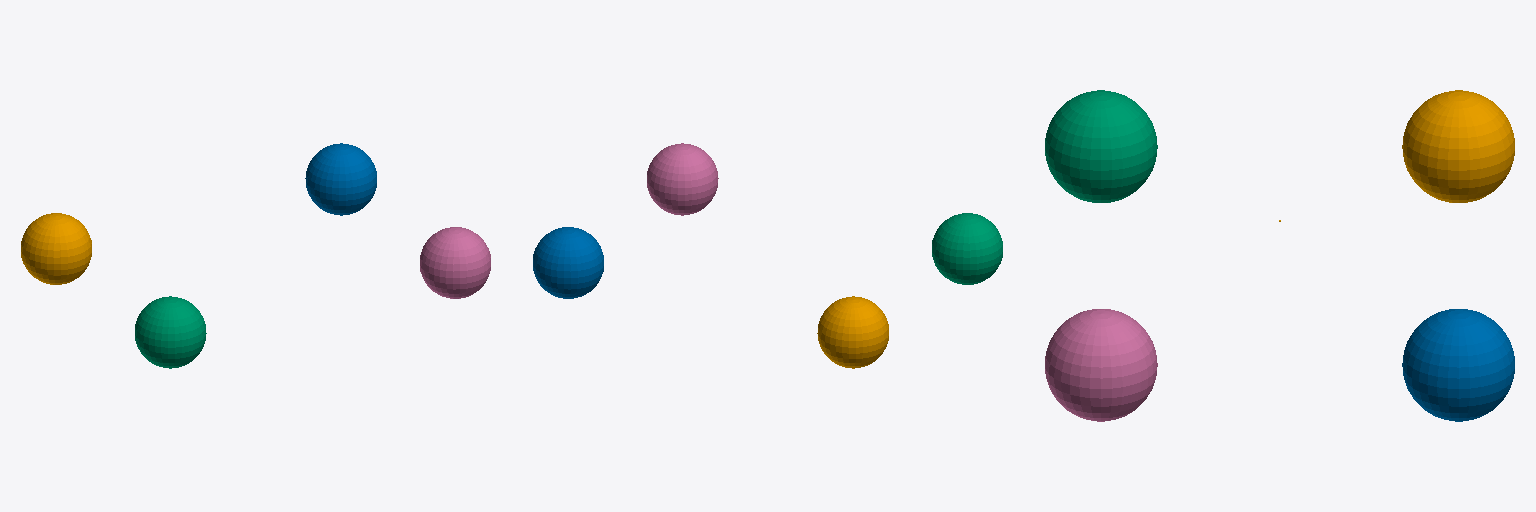
The robot description file, URDF, robot "youbot":
<?xml version="1.0" ?>
<robot name="youbot">
  <link name="youbot/base_footprint">
    <inertial>
      <mass value="0.1"/>
      <origin rpy="0 0 0" xyz="0 0 0.04"/>
      <inertia ixx="1.0" ixy="0.0" ixz="0.0" iyy="1.0" iyz="0.0" izz="1.0"/>
    </inertial>
    <visual>
      <origin rpy="0 0 0" xyz="0 0 0.09"/>
      <geometry>
        <box size="0.001 0.001 0.001"/>
      </geometry>
    </visual>
    <collision>
      <origin rpy="0 0 0" xyz="0 0 0.04"/>
      <geometry>
        <box size="0.001 0.001 0.001"/>
      </geometry>
    </collision>
  </link>
  <joint name="base_footprint_joint" type="fixed">
    <origin rpy="0 0 0" xyz="0 0 0.09"/>
    <child link="youbot/base_link"/>
    <parent link="youbot/base_footprint"/>
  </joint>
  <link name="youbot/base_link">
    <inertial>
      <mass value="22.0"/>
      <origin xyz="0 0 0"/>
      <inertia ixx="5.652232699207" ixy="-0.009719934438" ixz="1.293988226423" iyy="5.669473158652" iyz="-0.007379583694" izz="3.683196351726"/>
    </inertial>
    <visual>
      <origin rpy="0 0 0" xyz="0 0 0"/>
      <geometry>
        <mesh filename="meshes/youbot_base/base.dae"/>
      </geometry>
    </visual>
    <collision>
      <origin rpy="0 0 0" xyz="0 0 0"/>
      <geometry>
        <!--<box size="${base_size_x} ${base_size_y} ${base_size_z}" />-->
        <mesh filename="meshes/youbot_base/base_convex.stl"/>
      </geometry>
    </collision>
  </link>
  <joint name="base_laser_front_hokuyo_urg04_laser_joint" type="fixed">
    <axis xyz="0 1 0"/>
    <origin rpy="0 0 0" xyz="0.2 0 0.08"/>
    <parent link="youbot/base_link"/>
    <child link="youbot/front_laser_link"/>
  </joint>
  <link name="youbot/front_laser_link" type="laser">
    <inertial>
      <mass value="0.16"/>
      <origin rpy="0 0 0" xyz="0.1 0 -0.11"/>
      <inertia ixx="0.1" ixy="0" ixz="0" iyy="0.1" iyz="0" izz="0.1"/>
    </inertial>
    <visual>
      <origin rpy="0 0 0" xyz="0.1 0 -0.11"/>
      <geometry>
        <mesh filename="meshes/sensors/hokuyo.dae"/>
      </geometry>
    </visual>
    <collision>
      <origin rpy="0 0 0" xyz="0.1 0 -0.11"/>
      <geometry>
        <mesh filename="meshes/sensors/hokuyo_convex.stl"/>
      </geometry>
    </collision>
  </link>
  <joint name="caster_joint_fl" type="fixed">
    <origin rpy="0 0 0" xyz="0.228 0.158 -0.034"/>
    <axis xyz="0 0 1"/>
    <limit effort="30" velocity="10"/>
    <dynamics damping="1.0" friction="1.0"/>
    <safety_controller k_velocity="10.0"/>
    <parent link="youbot/base_link"/>
    <child link="youbot/caster_link_fl"/>
  </joint>
  <link name="youbot/caster_link_fl">
    <inertial>
      <mass value="0.1"/>
      <origin xyz="0 0 0"/>
      <inertia ixx="0.012411765597" ixy="-0.000711733678" ixz="0.00050272983" iyy="0.015218160428" iyz="-0.000004273467" izz="0.011763977943"/>
    </inertial>
  </link>
  <joint name="wheel_joint_fl" type="fixed">
    <axis xyz="0 1 0"/>
    <limit effort="30" velocity="10"/>
    <origin rpy="0 0 0" xyz="0.0 0.0 0.0"/>
    <parent link="youbot/caster_link_fl"/>
    <dynamics damping="1.0" friction="1.0"/>
    <safety_controller k_velocity="10.0"/>
    <child link="youbot/wheel_link_fl"/>
  </joint>
  <link name="youbot/wheel_link_fl">
    <inertial>
      <mass value="0.4"/>
      <origin xyz="0 0 0"/>
      <inertia ixx="0.012411765597" ixy="-0.000711733678" ixz="0.00050272983" iyy="0.015218160428" iyz="-0.000004273467" izz="0.011763977943"/>
    </inertial>
    <visual>
      <origin rpy="0 0 0" xyz="0 0 0"/>
      <!--<mesh filename="meshes/youbot_base/youbot_wheel.stl" />-->
      <geometry>
        <sphere radius="0.05"/>
      </geometry>
    </visual>
    <collision>
      <origin rpy="1.57079632679 0 0" xyz="0 0 0"/>
      <geometry>
        <cylinder length="0.005" radius="0.05"/>
      </geometry>
    </collision>
  </link>
  <joint name="caster_joint_fr" type="fixed">
    <origin rpy="0 0 0" xyz="0.228 -0.158 -0.034"/>
    <axis xyz="0 0 1"/>
    <limit effort="30" velocity="10"/>
    <dynamics damping="1.0" friction="1.0"/>
    <safety_controller k_velocity="10.0"/>
    <parent link="youbot/base_link"/>
    <child link="youbot/caster_link_fr"/>
  </joint>
  <link name="youbot/caster_link_fr">
    <inertial>
      <mass value="0.1"/>
      <origin xyz="0 0 0"/>
      <inertia ixx="0.012411765597" ixy="-0.000711733678" ixz="0.00050272983" iyy="0.015218160428" iyz="-0.000004273467" izz="0.011763977943"/>
    </inertial>
  </link>
  <joint name="wheel_joint_fr" type="fixed">
    <axis xyz="0 1 0"/>
    <limit effort="30" velocity="10"/>
    <dynamics damping="1.0" friction="1.0"/>
    <safety_controller k_velocity="10.0"/>
    <origin rpy="0 0 0" xyz="0.0 0.0 0.0"/>
    <parent link="youbot/caster_link_fr"/>
    <child link="youbot/wheel_link_fr"/>
  </joint>
  <link name="youbot/wheel_link_fr">
    <inertial>
      <mass value="0.4"/>
      <origin xyz="0 0 0"/>
      <inertia ixx="0.012411765597" ixy="-0.000711733678" ixz="0.00050272983" iyy="0.015218160428" iyz="-0.000004273467" izz="0.011763977943"/>
    </inertial>
    <visual>
      <origin rpy="0 0 0" xyz="0 0 0"/>
      <geometry>
        <!--<mesh filename="meshes/youbot_base/youbot_wheel.stl" />-->
        <sphere radius="0.05"/>
      </geometry>
    </visual>
    <collision>
      <origin rpy="1.57079632679 0 0" xyz="0 0 0"/>
      <geometry>
        <cylinder length="0.005" radius="0.05"/>
      </geometry>
    </collision>
  </link>
  <joint name="caster_joint_bl" type="fixed">
    <origin rpy="0 0 0" xyz="-0.228 0.158 -0.034"/>
    <axis xyz="0 0 1"/>
    <limit effort="30" velocity="10"/>
    <dynamics damping="1.0" friction="1.0"/>
    <safety_controller k_velocity="10.0"/>
    <parent link="youbot/base_link"/>
    <child link="youbot/caster_link_bl"/>
  </joint>
  <link name="youbot/caster_link_bl">
    <inertial>
      <mass value="0.1"/>
      <origin xyz="0 0 0"/>
      <inertia ixx="0.012411765597" ixy="-0.000711733678" ixz="0.00050272983" iyy="0.015218160428" iyz="-0.000004273467" izz="0.011763977943"/>
    </inertial>
  </link>
  <joint name="wheel_joint_bl" type="fixed">
    <axis xyz="0 1 0"/>
    <limit effort="10" velocity="10"/>
    <limit effort="30" velocity="10"/>
    <dynamics damping="1.0" friction="1.0"/>
    <safety_controller k_velocity="10.0"/>
    <origin rpy="0 0 0" xyz="0.0 0.0 0.0"/>
    <parent link="youbot/caster_link_bl"/>
    <child link="youbot/wheel_link_bl"/>
  </joint>
  <link name="youbot/wheel_link_bl">
    <inertial>
      <mass value="0.4"/>
      <origin xyz="0 0 0"/>
      <inertia ixx="0.012411765597" ixy="-0.000711733678" ixz="0.00050272983" iyy="0.015218160428" iyz="-0.000004273467" izz="0.011763977943"/>
    </inertial>
    <visual>
      <origin rpy="0 0 0" xyz="0 0 0"/>
      <geometry>
        <!--<mesh filename="meshes/youbot_base/youbot_wheel.stl" />-->
        <sphere radius="0.05"/>
      </geometry>
    </visual>
    <collision>
      <origin rpy="1.57079632679 0 0" xyz="0 0 0"/>
      <geometry>
        <cylinder length="0.005" radius="0.05"/>
      </geometry>
    </collision>
  </link>
  <joint name="caster_joint_br" type="fixed">
    <origin rpy="0 0 0" xyz="-0.228 -0.158 -0.034"/>
    <axis xyz="0 0 1"/>
    <limit effort="30" velocity="10"/>
    <dynamics damping="1.0" friction="1.0"/>
    <safety_controller k_velocity="10.0"/>
    <parent link="youbot/base_link"/>
    <child link="youbot/caster_link_br"/>
  </joint>
  <link name="youbot/caster_link_br">
    <inertial>
      <mass value="0.1"/>
      <origin xyz="0 0 0"/>
      <inertia ixx="0.012411765597" ixy="-0.000711733678" ixz="0.00050272983" iyy="0.015218160428" iyz="-0.000004273467" izz="0.011763977943"/>
    </inertial>
  </link>
  <joint name="wheel_joint_br" type="fixed">
    <axis xyz="0 1 0"/>
    <limit effort="30" velocity="10"/>
    <dynamics damping="1.0" friction="1.0"/>
    <safety_controller k_velocity="10.0"/>
    <origin rpy="0 0 0" xyz="0.0 0.0 0.0"/>
    <parent link="youbot/caster_link_br"/>
    <child link="youbot/wheel_link_br"/>
  </joint>
  <link name="youbot/wheel_link_br">
    <inertial>
      <mass value="0.4"/>
      <origin xyz="0 0 0"/>
      <inertia ixx="0.012411765597" ixy="-0.000711733678" ixz="0.00050272983" iyy="0.015218160428" iyz="-0.000004273467" izz="0.011763977943"/>
    </inertial>
    <visual>
      <origin rpy="0 0 0" xyz="0 0 0"/>
      <geometry>
        <!--<mesh filename="meshes/youbot_base/youbot_wheel.stl" />-->
        <sphere radius="0.05"/>
      </geometry>
    </visual>
    <collision>
      <origin rpy="1.57079632679 0 0" xyz="0 0 0"/>
      <geometry>
        <cylinder length="0.005" radius="0.05"/>
      </geometry>
    </collision>
  </link>
  <joint name="plate_joint" type="fixed">
    <origin rpy="0 0 0" xyz="-0.159 0 0.046"/>
    <parent link="youbot/base_link"/>
    <child link="youbot/plate_link"/>
  </joint>
  <link name="youbot/plate_link">
    <inertial>
      <origin rpy="0 0 0" xyz="0 0 0"/>
      <mass value="1"/>
      <inertia ixx="0.01" ixy="0" ixz="0" iyy="0.01" iyz="0" izz="0.01"/>
    </inertial>
    <visual>
      <origin rpy="0 0 0" xyz="0 0 0"/>
      <geometry>
        <mesh filename="meshes/youbot_plate/plate.dae"/>
      </geometry>
    </visual>
    <collision>
      <origin rpy="0 0 0" xyz="0 0 0"/>
      <geometry>
        <mesh filename="meshes/youbot_plate/plate_convex.stl"/>
      </geometry>
    </collision>
  </link>
  <joint name="arm_joint_0" type="fixed">
    <origin rpy="0 0 0" xyz="0.143 0 0.046"/>
    <parent link="youbot/base_link"/>
    <child link="youbot/arm_link_0"/>
  </joint>
  <link name="youbot/arm_link_0">
    <inertial>
      <!--<origin xyz="0.023 0 0.006" rpy="0 0 0"/>-->
      <origin rpy="0 0 0" xyz="0 0 0"/>
      <mass value="0.845"/>
      <inertia ixx="0.01" ixy="0" ixz="0" iyy="0.01" iyz="0" izz="0.01"/>
    </inertial>
    <visual>
      <origin rpy="0 0 0" xyz="0 0 0"/>
      <geometry>
        <mesh filename="meshes/youbot_arm/arm0.dae"/>
      </geometry>

    </visual>
    <collision>
      <!--<origin xyz="0.023 0 0.006" rpy="0 0 0"/>-->
      <origin rpy="0 0 0" xyz="0 0 0"/>
      <geometry>
        <mesh filename="meshes/youbot_arm/arm0_convex.stl"/>
        <!--<cylinder length="0.078" radius="0.093"/>-->
      </geometry>
    </collision>
  </link>
  <joint name="arm_joint_1" type="revolute">
    <origin rpy="0 0 0" xyz="0.024 0 0.096"/>
    <parent link="youbot/arm_link_0"/>
    <child link="youbot/arm_link_1"/>
    <axis xyz="0 0 1"/>
    <!--<calibration rising="${arm_1_ref}" falling="${arm_1_ref}"/>-->
    <dynamics damping="1.0" friction="1.0"/>
    <limit effort="10" lower="0" upper="5.89921287174" velocity="1.57079632679"/>
    <safety_controller k_position="20" k_velocity="25" soft_lower_limit="0.001" soft_upper_limit="5.89821287174"/>
  </joint>
  <link name="youbot/arm_link_1">
    <inertial>
      <!--<origin xyz="0 0 -0.003" rpy="0 0 0" />-->
      <origin rpy="0 0 0" xyz="0 0 0"/>
      <mass value="2.412"/>
      <inertia ixx="0.01" ixy="0" ixz="0" iyy="0.01" iyz="0" izz="0.01"/>
    </inertial>
    <visual>
      <origin rpy="0 0 0" xyz="0 0 0"/>
      <geometry>
        <mesh filename="meshes/youbot_arm/arm1.dae"/>
      </geometry>
    </visual>
    <collision>
      <!--<origin xyz="0 0 -0.003" rpy="0 0 0" />-->
      <origin rpy="0 0 0" xyz="0 0 0"/>
      <geometry>
        <mesh filename="meshes/youbot_arm/arm1_convex.stl"/>
        <!--<cylinder length="0.102" radius="0.080"/>-->
      </geometry>
    </collision>
  </link>
  <joint name="arm_joint_2" type="revolute">
    <origin rpy="0 0 0" xyz="0.033 0 0.019"/>
    <parent link="youbot/arm_link_1"/>
    <child link="youbot/arm_link_2"/>
    <axis xyz="0 -1 0"/>
    <!--<calibration rising="${arm_2_ref}" falling="${arm_2_ref}"/>-->
    <dynamics damping="1.0" friction="1.0"/>
    <limit effort="10" lower="0" upper="2.70526034059" velocity="1.57079632679"/>
    <safety_controller k_position="20" k_velocity="25" soft_lower_limit="0.001" soft_upper_limit="2.70426034059"/>
  </joint>
  <link name="youbot/arm_link_2">
    <inertial>
      <!--<origin xyz="0.001 -0.041 0.074" rpy="0 0 0" />-->
      <origin rpy="0 0 0" xyz="0 -0.032 0.078"/>
      <mass value="1.155"/>
      <inertia ixx="0.01" ixy="0" ixz="0" iyy="0.01" iyz="0" izz="0.01"/>
    </inertial>
    <visual>
      <origin rpy="0 0 0" xyz="0 -0.032 0.078"/>
      <geometry>
        <mesh filename="meshes/youbot_arm/arm2.dae"/>
      </geometry>

    </visual>
    <collision>
      <!--<origin xyz="0.001 -0.041 0.074" rpy="0 0 0" />-->
      <origin rpy="0 0 0" xyz="0 -0.032 0.078"/>
      <geometry>
        <mesh filename="meshes/youbot_arm/arm2_convex.stl"/>
        <!--<box size="0.074 0.082 0.222"/>-->
      </geometry>
    </collision>
  </link>
  <joint name="arm_joint_3" type="revolute">
    <origin rpy="0 0 0" xyz="0.000 0.000 0.155"/>
    <parent link="youbot/arm_link_2"/>
    <child link="youbot/arm_link_3"/>
    <axis xyz="0 1 0"/>
    <!--<calibration rising="${arm_3_ref}" falling="${arm_3_ref}"/>-->
    <dynamics damping="1.0" friction="1.0"/>
    <limit effort="10" lower="-5.18362787842" upper="0" velocity="1.57079632679"/>
    <safety_controller k_position="20" k_velocity="25" soft_lower_limit="-5.18262787842" soft_upper_limit="0.001"/>
  </joint>
  <link name="youbot/arm_link_3">
    <inertial>
      <!--<origin xyz="0.000 0.025 0.067" rpy="0 0 0" />-->
      <origin rpy="0 0 0" xyz="0.000 0.028 0.079"/>
      <mass value="0.934"/>
      <inertia ixx="0.01" ixy="0" ixz="0" iyy="0.01" iyz="0" izz="0.01"/>
    </inertial>
    <visual>
      <origin rpy="0 0 0" xyz="0.000 0.028 0.079"/>
      <geometry>
        <mesh filename="meshes/youbot_arm/arm3.dae"/>
      </geometry>

    </visual>
    <collision>
      <!--<origin xyz="0.000 0.025 0.067" rpy="0 0 0" />-->
      <origin rpy="0 0 0" xyz="0.000 0.028 0.079"/>
      <geometry>
        <mesh filename="meshes/youbot_arm/arm3_convex.stl"/>
        <!--<box size="0.064 0.054 0.192"/>-->
      </geometry>
    </collision>
  </link>
  <joint name="arm_joint_4" type="revolute">
    <origin rpy="0 0 0" xyz="0.000 0.000 0.135"/>
    <parent link="youbot/arm_link_3"/>
    <child link="youbot/arm_link_4"/>
    <axis xyz="0 -1 0"/>
    <!--<calibration rising="${arm_4_ref}" falling="${arm_4_ref}"/>-->
    <dynamics damping="1.0" friction="1.0"/>
    <limit effort="10" lower="0" upper="3.57792496659" velocity="1.57079632679"/>
    <safety_controller k_position="20" k_velocity="25" soft_lower_limit="0" soft_upper_limit="3.57692496659"/>
  </joint>
  <link name="youbot/arm_link_4">
    <inertial>
      <!--<origin xyz="0 0 0.026" rpy="0 0 0"/>-->
      <origin rpy="0 0 0" xyz="0 -0.010 0.029"/>
      <mass value="0.877"/>
      <inertia ixx="0.01" ixy="0" ixz="0" iyy="0.01" iyz="0" izz="0.01"/>
    </inertial>
    <visual>
      <origin rpy="0 0 0" xyz="0 -0.010 0.029"/>
      <geometry>
        <mesh filename="meshes/youbot_arm/arm4.dae"/>
      </geometry>

    </visual>
    <collision>
      <!--<origin xyz="0 0 0.026" rpy="0 0 0" />-->
      <origin rpy="0 0 0" xyz="0 -0.010 0.029"/>
      <geometry>
        <mesh filename="meshes/youbot_arm/arm4_convex.stl"/>
        <!--<box size="0.058 0.100 0.118"/>-->
      </geometry>
    </collision>
  </link>
  <joint name="arm_joint_5" type="revolute">
    <origin rpy="0 0 0" xyz="-0.002 0 0.130"/>
    <parent link="youbot/arm_link_4"/>
    <child link="youbot/arm_link_5"/>
    <axis xyz="0 0 1"/>
    <!--<calibration rising="${arm_5_ref}" falling="${arm_5_ref}"/>-->
    <dynamics damping="1.0" friction="1.0"/>
    <limit effort="10" lower="0" upper="5.84685299418" velocity="1.57079632679"/>
    <safety_controller k_position="20" k_velocity="25" soft_lower_limit="0" soft_upper_limit="5.84585299418"/>
  </joint>
  <link name="youbot/arm_link_5">
    <inertial>
      <origin rpy="0 0 0" xyz="0.003 0 -0.034"/>
      <mass value="0.251"/>
      <inertia ixx="0.01" ixy="0" ixz="0" iyy="0.01" iyz="0" izz="0.01"/>
    </inertial>
    <visual>
      <origin rpy="0 0 0" xyz="0.003 0 -0.034"/>
      <geometry>
        <mesh filename="meshes/youbot_arm/arm5.dae"/>
      </geometry>

    </visual>
    <collision>
      <origin rpy="0 0 0" xyz="0.003 0 -0.034"/>
      <geometry>
        <mesh filename="meshes/youbot_arm/arm5_convex.stl"/>
        <!--<box size="0.054 0.096 0.030"/>-->
      </geometry>
    </collision>
  </link>
  <joint name="gripper_palm_joint" type="fixed">
    <origin rpy="0 0 0" xyz="0 0 0"/>
    <parent link="youbot/arm_link_5"/>
    <child link="youbot/gripper_palm_link"/>
  </joint>
  <link name="youbot/gripper_palm_link">
    <inertial>
      <origin rpy="0 0 0" xyz="0 0 0"/>
      <mass value="0.75"/>
      <inertia ixx="0.01" ixy="0" ixz="0" iyy="0.01" iyz="0" izz="0.01"/>
    </inertial>
    <visual>
      <origin rpy="0 0 0" xyz="0 0 0"/>
      <geometry>
        <mesh filename="meshes/youbot_gripper/palm.stl"/>
      </geometry>

    </visual>
    <collision>
      <origin rpy="0 0 0" xyz="0 0 0"/>
      <geometry>
        <!--<box size="0.050 0.094 0.054"/>-->
        <mesh filename="meshes/youbot_gripper/palm_convex.stl"/>
      </geometry>
    </collision>
  </link>
  <joint name="gripper_finger_joint_l" type="fixed">
    <origin rpy="0 0 3.14159265359" xyz="0.004 0.008 0.046"/>
    <parent link="youbot/gripper_palm_link"/>
    <child link="youbot/gripper_finger_link_l"/>
    <axis xyz="0 -1 0"/>
    <dynamics damping="1.0" friction="1.0"/>
    <limit effort="1" lower="0" upper="0.0115" velocity="0.1"/>
    <safety_controller k_position="20" k_velocity="25" soft_lower_limit="0.001" soft_upper_limit="0.011"/>
  </joint>
  <link name="youbot/gripper_finger_link_l">
    <inertial>
      <origin rpy="0 0 0" xyz="0 -0.001 0"/>
      <mass value="0.01"/>
      <inertia ixx="0.01" ixy="0" ixz="0" iyy="0.01" iyz="0" izz="0.01"/>
    </inertial>
    <visual>
      <origin rpy="0 0 0" xyz="0 0 0"/>
      <geometry>
        <mesh filename="meshes/youbot_gripper/finger.stl"/>
      </geometry>

    </visual>
    <collision>
      <origin rpy="0 0 0" xyz="0 0 0"/>
      <geometry>
        <!--<box size="0.014 0.020 0.046"/>-->
        <mesh filename="meshes/youbot_gripper/finger_convex.stl"/>
      </geometry>
    </collision>
  </link>
  <joint name="gripper_finger_joint_r" type="fixed">
    <origin rpy="0 0 0" xyz="0.004 -0.008 0.046"/>
    <parent link="youbot/gripper_palm_link"/>
    <child link="youbot/gripper_finger_link_r"/>
    <axis xyz="0 -1 0"/>
    <dynamics damping="1.0" friction="1.0"/>
    <limit effort="1" lower="0" upper="0.0115" velocity="0.1"/>
    <safety_controller k_position="20" k_velocity="25" soft_lower_limit="0.001" soft_upper_limit="0.011"/>
  </joint>
  <link name="youbot/gripper_finger_link_r">
    <inertial>
      <origin rpy="0 0 0" xyz="0.000 -0.001 0"/>
      <mass value="0.01"/>
      <inertia ixx="0.01" ixy="0" ixz="0" iyy="0.01" iyz="0" izz="0.01"/>
    </inertial>
    <visual>
      <origin rpy="0 0 0" xyz="0 0 0"/>
      <geometry>
        <mesh filename="meshes/youbot_gripper/finger.stl"/>
      </geometry>

    </visual>
    <collision>
      <origin rpy="0 0 0" xyz="0.000 0 0"/>
      <geometry>
        <!--<box size="0.014 0.020 0.046"/>-->
        <mesh filename="meshes/youbot_gripper/finger_convex.stl"/>
      </geometry>
    </collision>
  </link>
</robot>

--- Facts derived from the render (not from the file) ---
3 views of the same robot in one strip: view 1: azimuth 30°, elevation 25°; view 2: azimuth 150°, elevation 25°; view 3: azimuth 270°, elevation 25° (orthographic).
Model youbot with 21 links and 20 joints (5 revolute, 15 fixed), rooted at youbot/base_footprint, posed every joint at zero.
Links seen in each view (by area): view 1: youbot/wheel_link_fr, youbot/wheel_link_bl, youbot/wheel_link_fl, youbot/wheel_link_br; view 2: youbot/wheel_link_fl, youbot/wheel_link_br, youbot/wheel_link_fr, youbot/wheel_link_bl; view 3: youbot/wheel_link_fl, youbot/wheel_link_fr, youbot/wheel_link_bl, youbot/wheel_link_br.
Link boxes in pixels (<box>): youbot/wheel_link_fr: <box>420,227,490,298</box>; youbot/wheel_link_bl: <box>21,213,91,284</box>; youbot/wheel_link_fl: <box>305,143,376,215</box>; youbot/wheel_link_br: <box>135,296,206,368</box>; youbot/wheel_link_fl: <box>533,227,603,298</box>; youbot/wheel_link_br: <box>932,213,1002,284</box>; youbot/wheel_link_fr: <box>647,143,718,215</box>; youbot/wheel_link_bl: <box>817,296,888,368</box>; youbot/wheel_link_fl: <box>1402,309,1514,421</box>; youbot/wheel_link_fr: <box>1045,309,1157,421</box>; youbot/wheel_link_bl: <box>1402,90,1514,202</box>; youbot/wheel_link_br: <box>1045,90,1157,202</box>.
Bounding box of the posed robot: 0.556 × 0.416 × 0.1 m (x, y, z).
Meshes: 11 distinct files referenced, 0 mesh visuals loaded (none loaded); not drawn: 12 (reference not matched to a file when rendering).